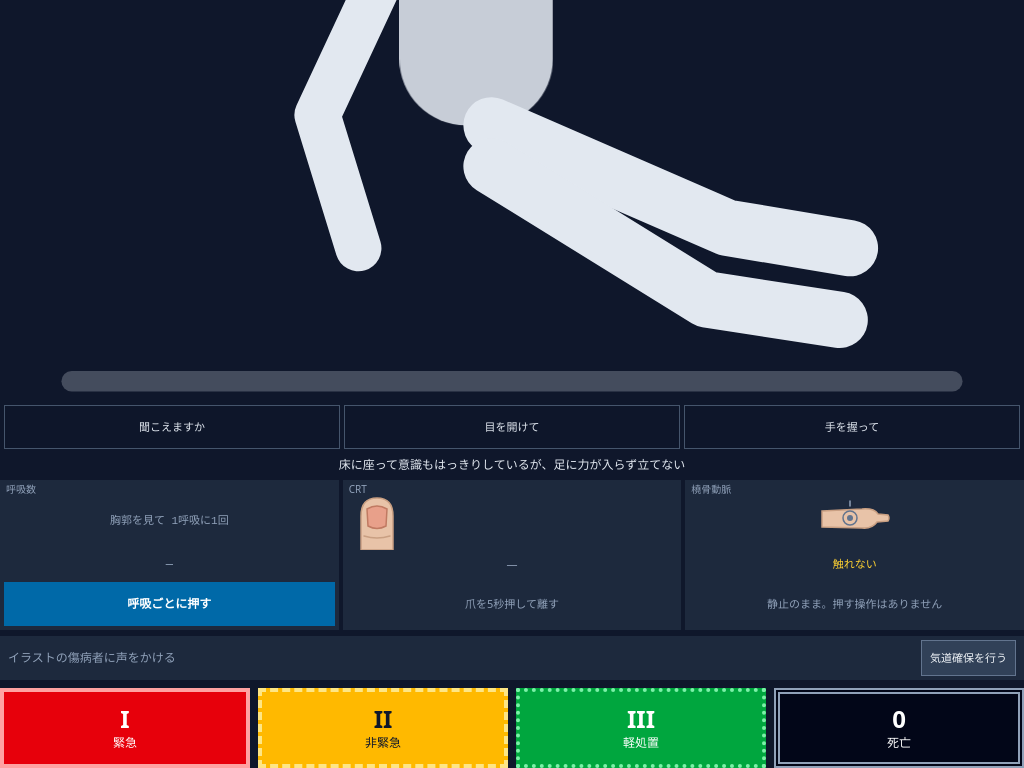
Scenario: 学習モードの基本動作（SPEC §2.3） › 回答すると解説シートに結果と次へが出る
(page scrolled)
Check: the button "次の症例" is not shown
Click the button with aria-label "III類・軽処置群" at [641, 728], box [516, 688, 766, 767]
(page scrolled)
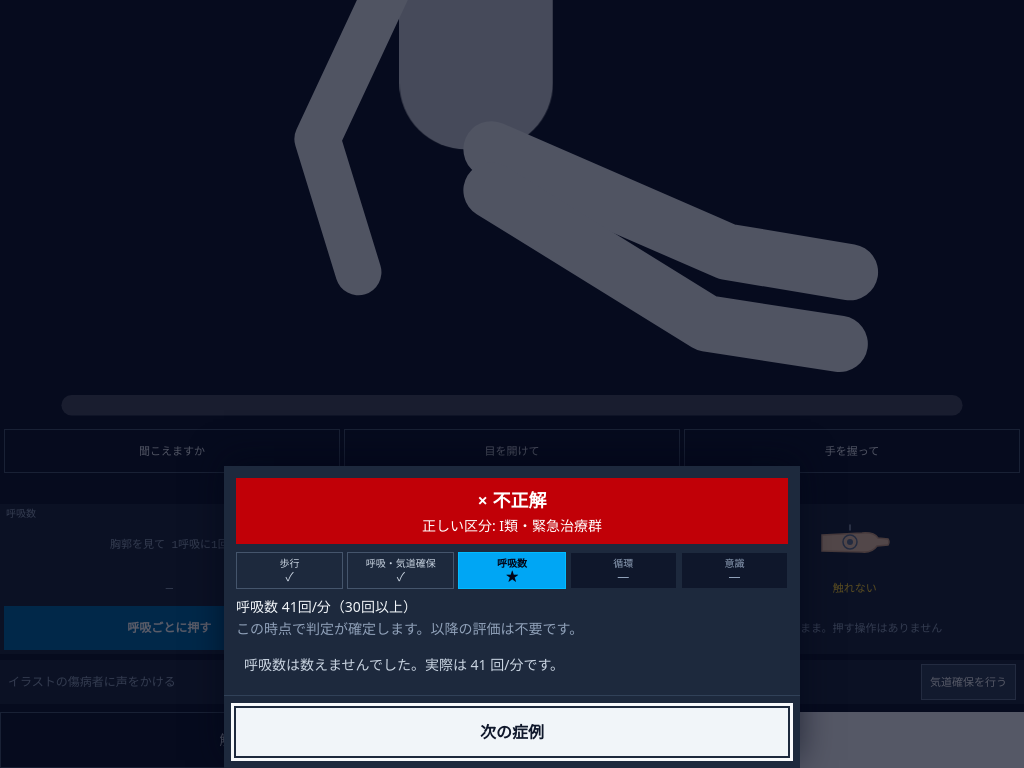
Check: the list named "判定の根拠" is shown, box [236, 552, 788, 589]
Check: the 2nd button "次の症例" is shown, box [517, 712, 1023, 767]
